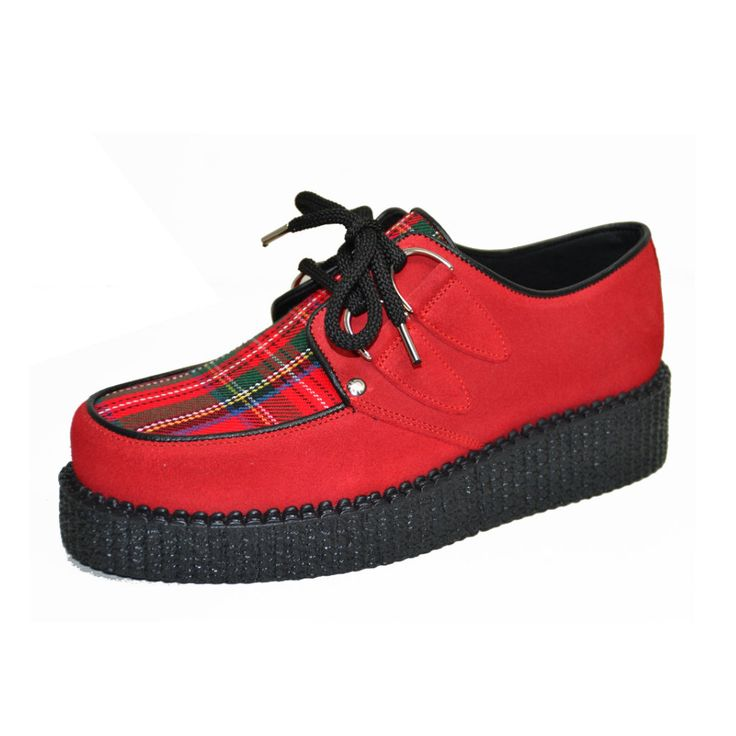gamuza: (71, 206, 665, 512)
